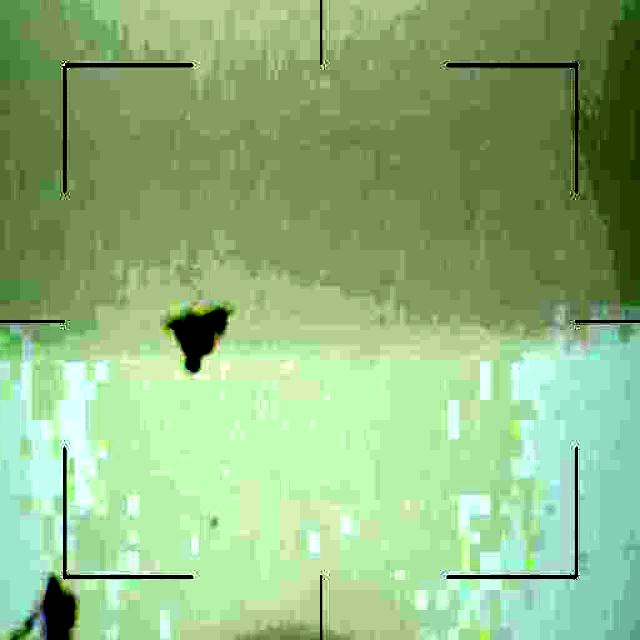bird: (165, 306, 232, 379)
